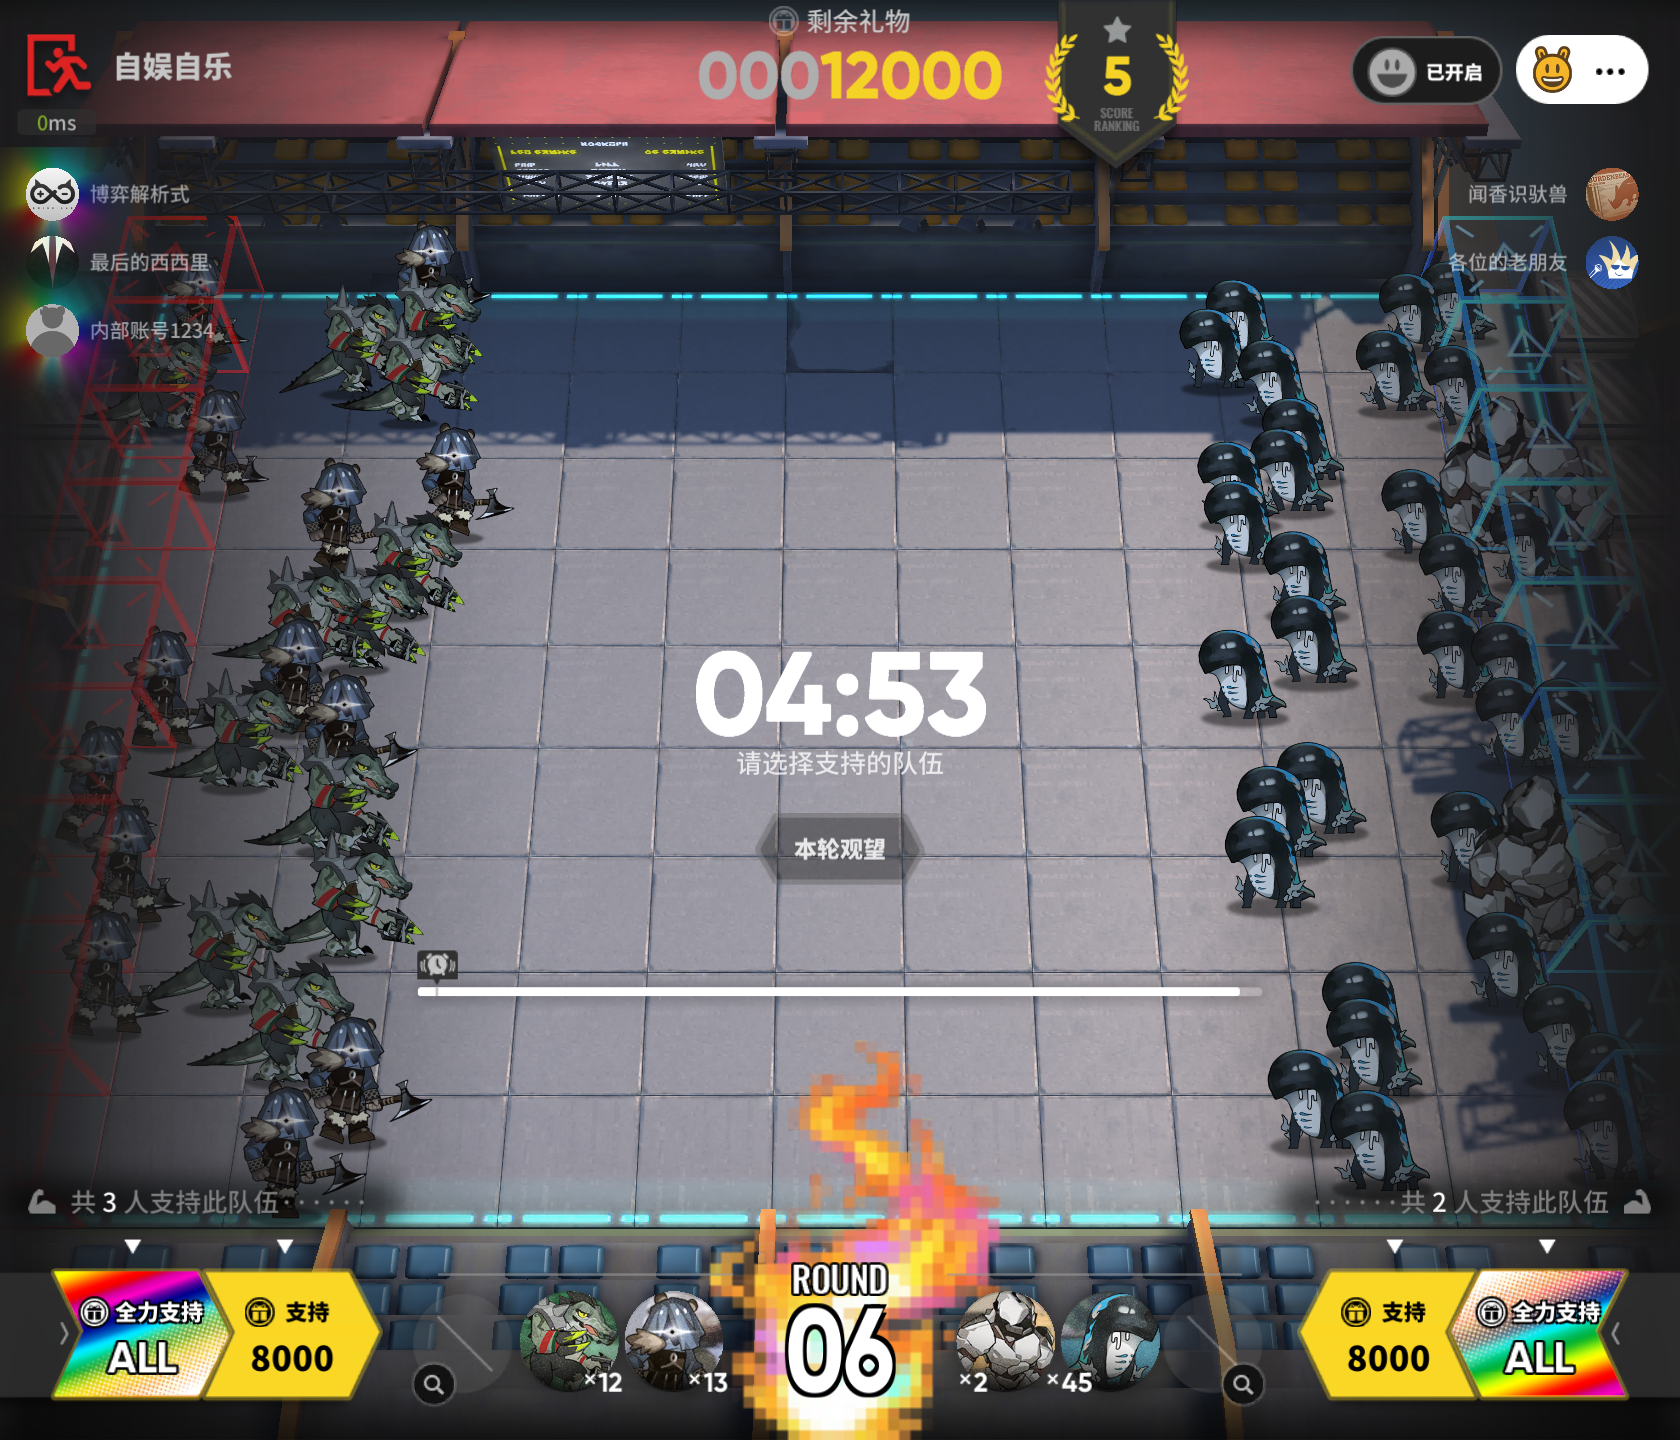奔跑吧！躯壳！: (229, 1079, 354, 1220), (311, 1020, 414, 1146), (626, 1281, 734, 1397), (74, 906, 160, 1041), (86, 794, 170, 926), (421, 426, 514, 534), (121, 631, 207, 749), (164, 251, 244, 364), (179, 390, 256, 506), (309, 664, 380, 771), (263, 609, 331, 719), (304, 454, 367, 566), (390, 213, 454, 316), (57, 731, 121, 829)
清醒的墨魉: (1327, 1003, 1439, 1097), (1323, 956, 1421, 1060), (1329, 1090, 1429, 1191), (1223, 814, 1314, 910), (1234, 766, 1326, 857), (1276, 741, 1366, 834), (1197, 629, 1286, 719), (1561, 1081, 1639, 1183), (1266, 1049, 1343, 1150), (1269, 594, 1356, 683), (1521, 983, 1597, 1084), (1079, 1294, 1159, 1390), (1417, 533, 1501, 621), (1466, 911, 1544, 1006), (1260, 397, 1344, 481), (1429, 790, 1501, 884), (1250, 429, 1331, 513), (1261, 530, 1344, 610), (1486, 499, 1566, 580), (1421, 259, 1496, 341), (1354, 329, 1429, 411), (1530, 680, 1601, 764), (1201, 480, 1271, 566), (1379, 469, 1449, 554), (1414, 610, 1479, 699), (1473, 677, 1537, 760), (1236, 339, 1304, 416), (1423, 344, 1486, 426), (1179, 309, 1241, 389), (1204, 279, 1270, 354), (1470, 621, 1539, 693), (1379, 273, 1437, 349), (1196, 441, 1259, 491)
砸人的石头: (1474, 773, 1654, 961), (1444, 401, 1620, 554), (954, 1290, 1061, 1391)
窃笑鳄鱼: (186, 959, 354, 1084), (140, 880, 287, 1011), (147, 674, 301, 790), (241, 749, 401, 859), (280, 847, 421, 959), (100, 330, 230, 437), (279, 286, 403, 396), (297, 563, 426, 669), (359, 500, 464, 619), (371, 334, 494, 427), (523, 1286, 621, 1393), (380, 269, 501, 353), (260, 570, 363, 660)
